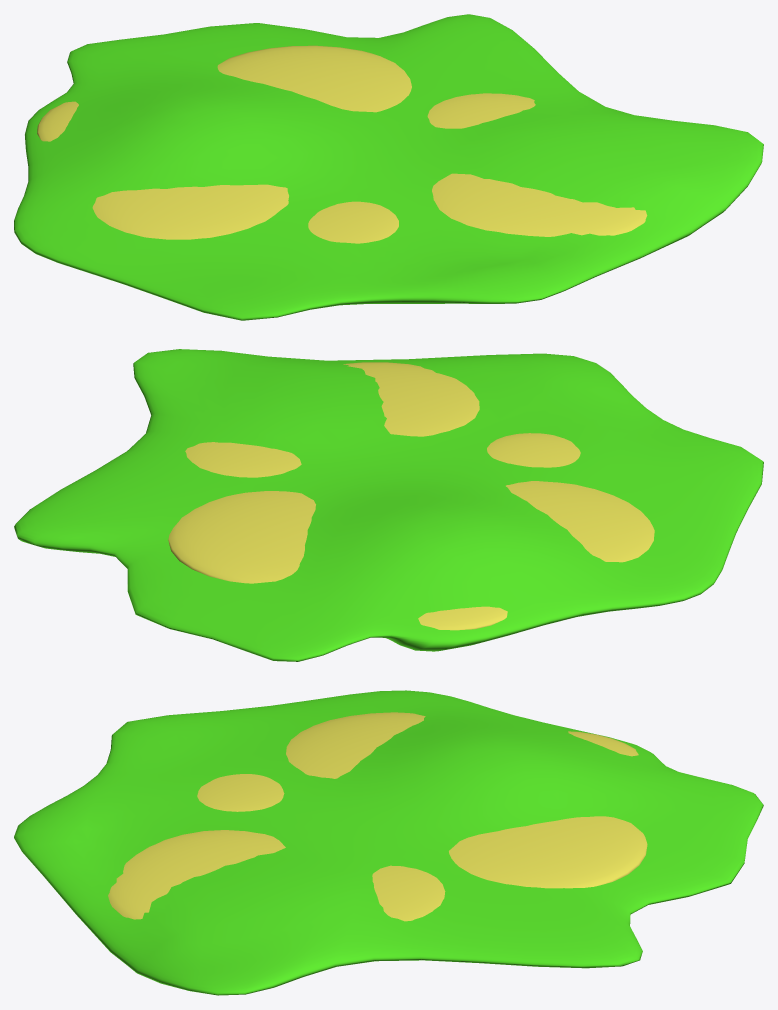
Rendered from Barf.fbx.
The picture shows the model from 3 angles, top to bottom: view 1: azimuth 30°, elevation 25°; view 2: azimuth 150°, elevation 25°; view 3: azimuth 270°, elevation 25°; orthographic projection.
Visible parts, largest first — view 1: Cube; view 2: Cube; view 3: Cube.
Part boxes in pixels (bbox=[...]): Cube: bbox=[14, 14, 763, 320]; Cube: bbox=[14, 349, 763, 661]; Cube: bbox=[14, 690, 763, 995].
Bounding box in the file's own units: 219 × 19.15 × 222.
